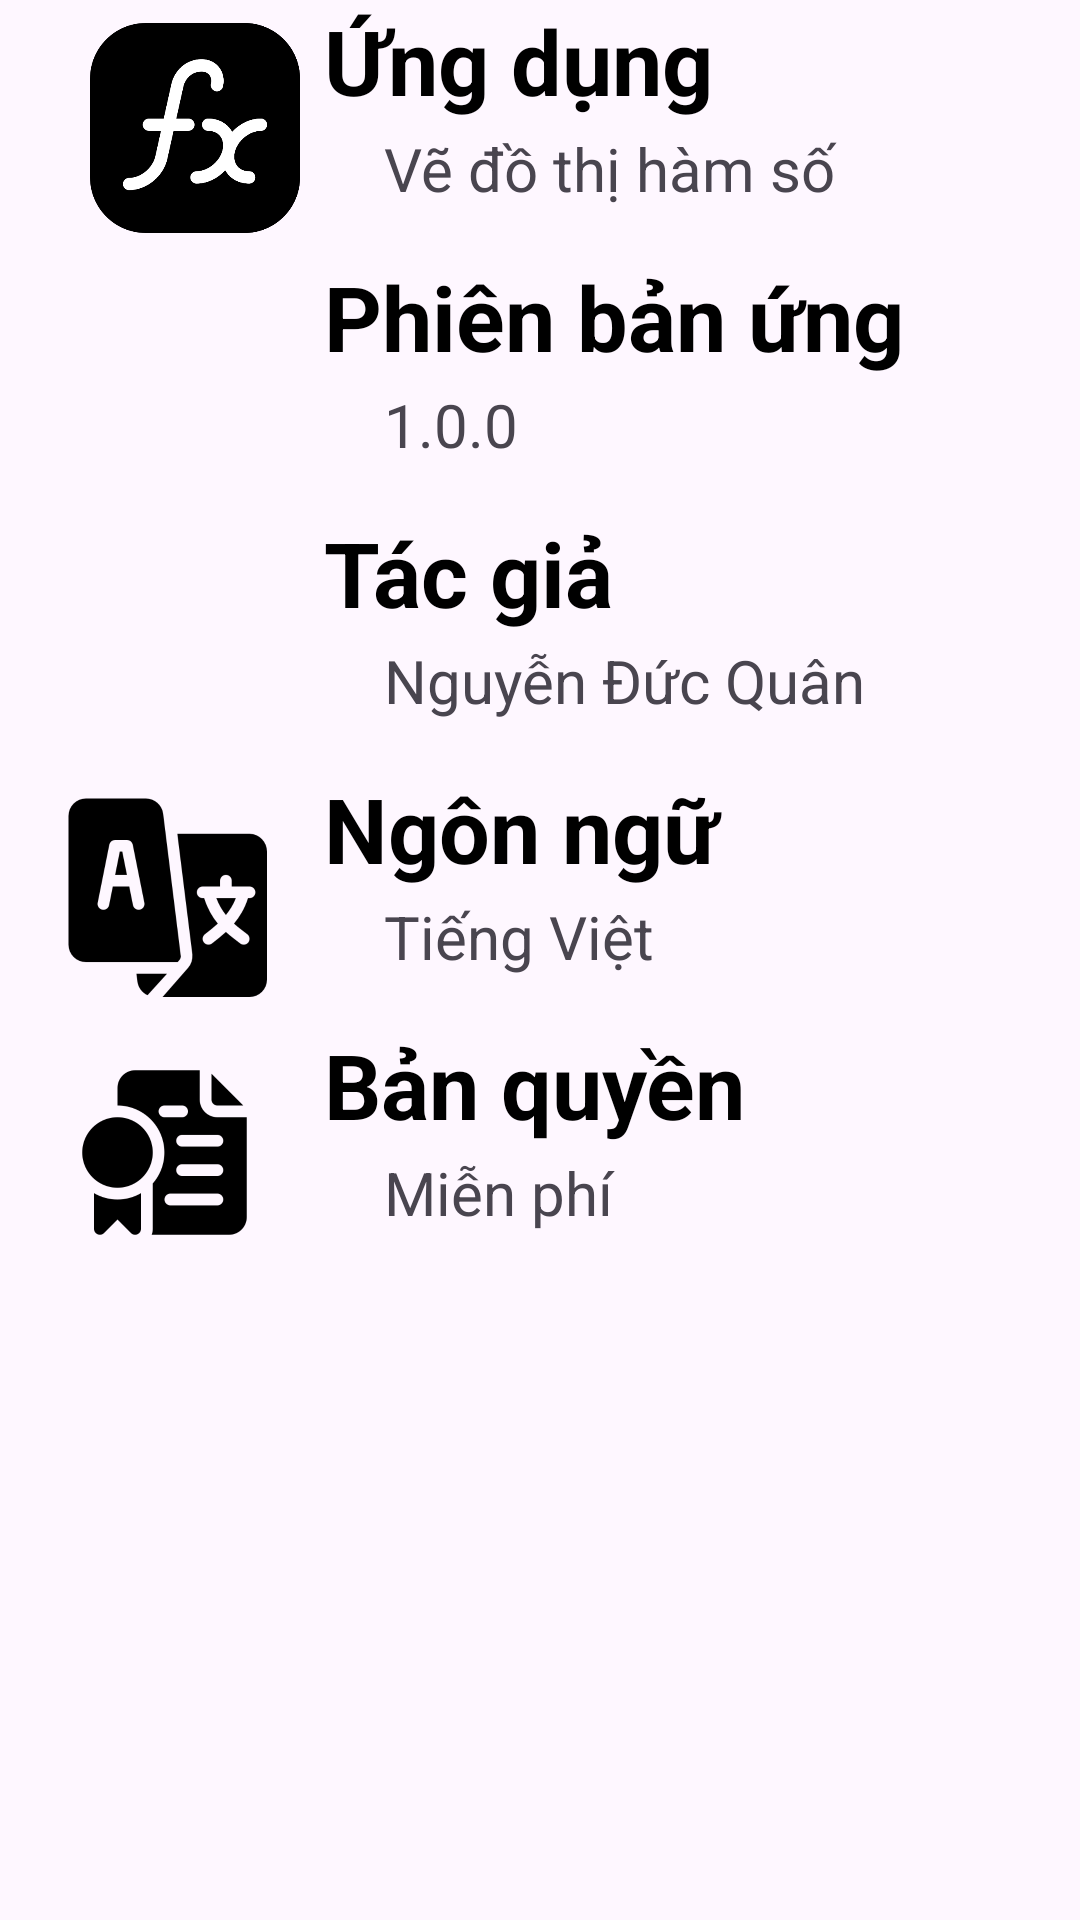

Where icons sit on this 1080*1920 app screen, as [x1, y1, x2, y2]:
certificate: [82, 1070, 247, 1235]
language: [68, 798, 267, 997]
